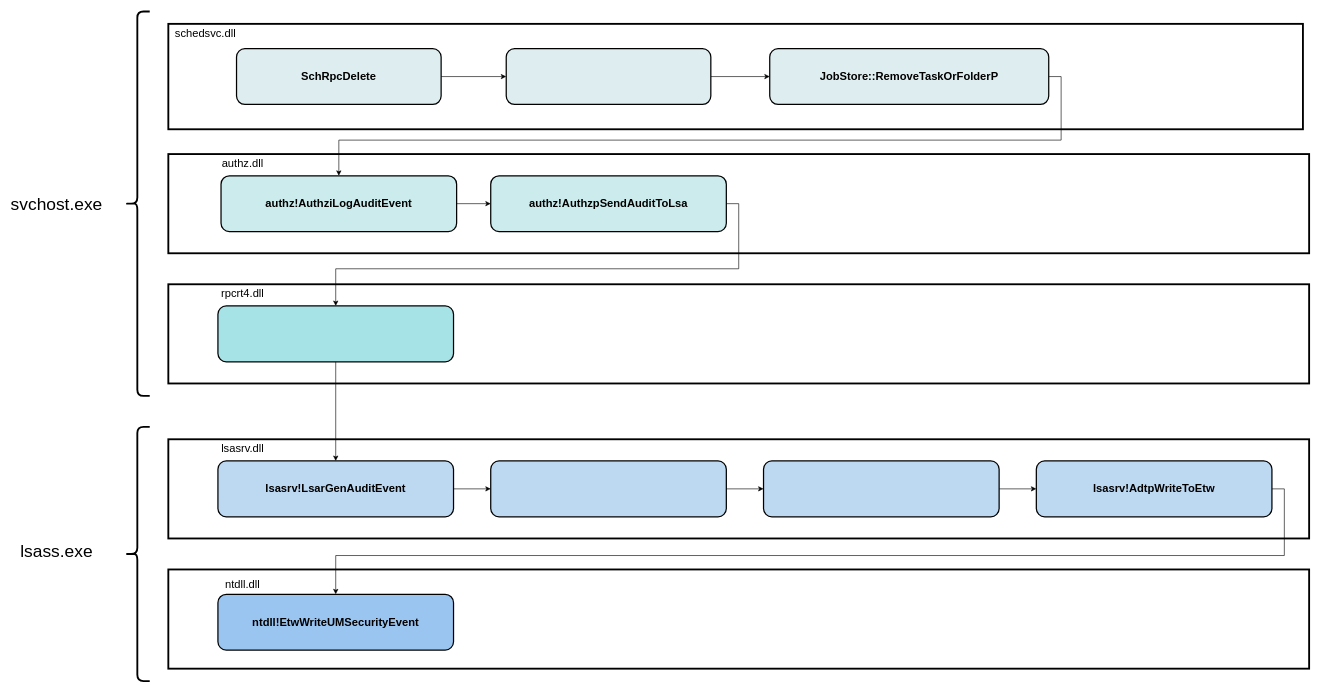
The diagram is 1321 pixels wide and 693 high, and some of its shapes have lost their labels. Here are the shapes that lost their labels. From the top down, the box of each, then its label:
(505, 48, 711, 105): JobStore::RemoveTaskOrFolder
(217, 305, 454, 362): rpcrt4!NdrClientCall3
(490, 460, 727, 517): lsasrv!LsapGenAuditEvent
(763, 460, 999, 517): lsasrv!LsapAdtWriteLogEx
